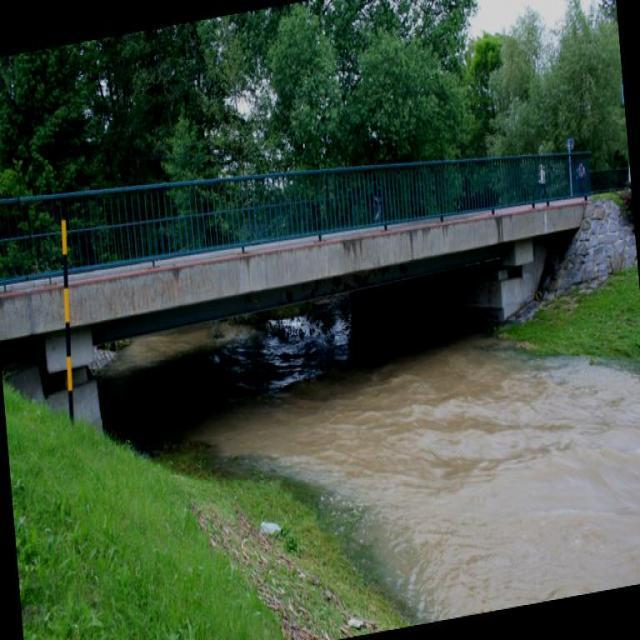flood: (212, 250, 639, 639)
